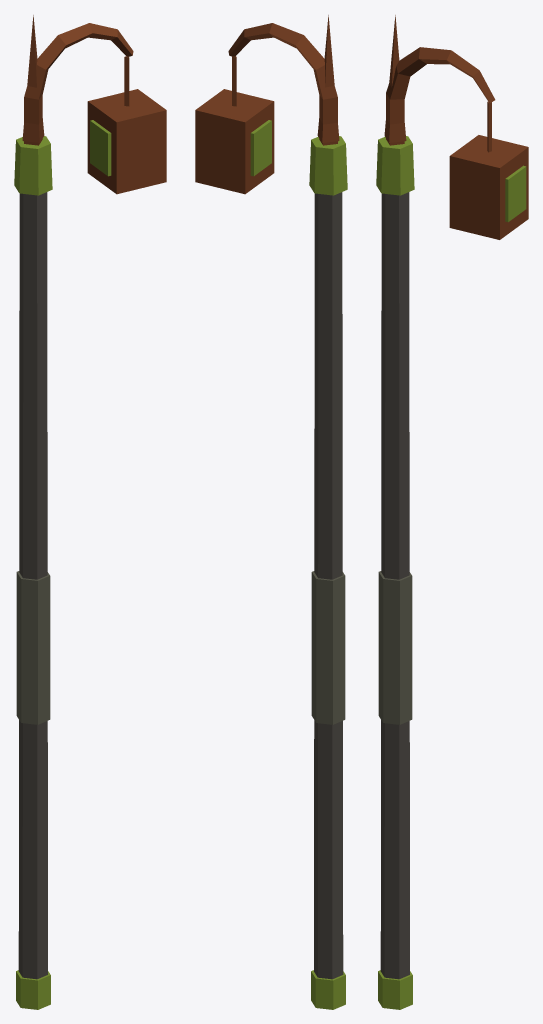
The model's file is weapon_naginata.glb.
The picture shows the model from 3 angles, left to right: view 1: azimuth 30°, elevation 25°; view 2: azimuth 150°, elevation 25°; view 3: azimuth 330°, elevation 25°; orthographic projection.
Visible parts, largest first — view 1: ratfolk_weapon_naginata; view 2: ratfolk_weapon_naginata; view 3: ratfolk_weapon_naginata.
Boxes of the visible parts, box(x1,y1,x2,y2) form: ratfolk_weapon_naginata: box(14, 15, 166, 1009); ratfolk_weapon_naginata: box(195, 15, 347, 1009); ratfolk_weapon_naginata: box(376, 15, 528, 1009).
Bounding box in the file's own units: 0.2659 × 1.81 × 0.096.
